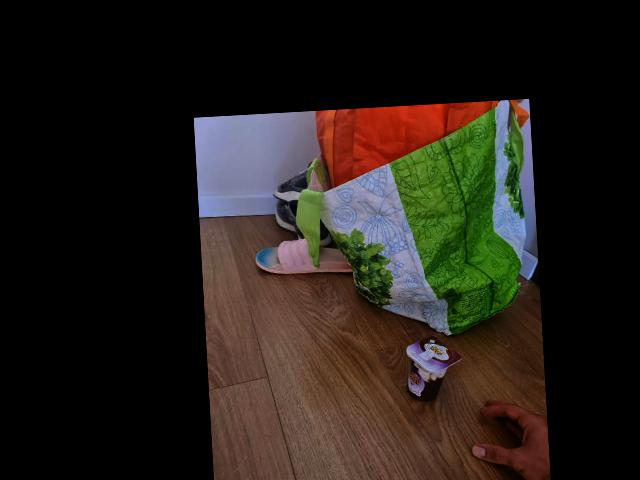milky: (402, 335, 461, 404)
